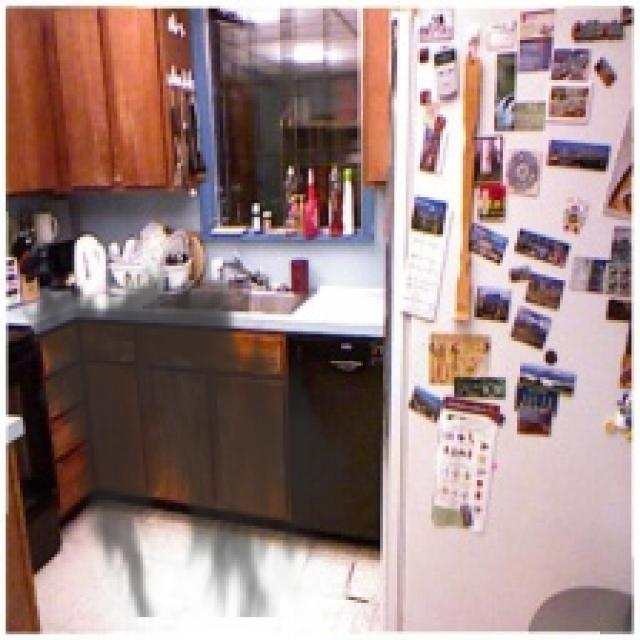smoke: (11, 254, 363, 617)
